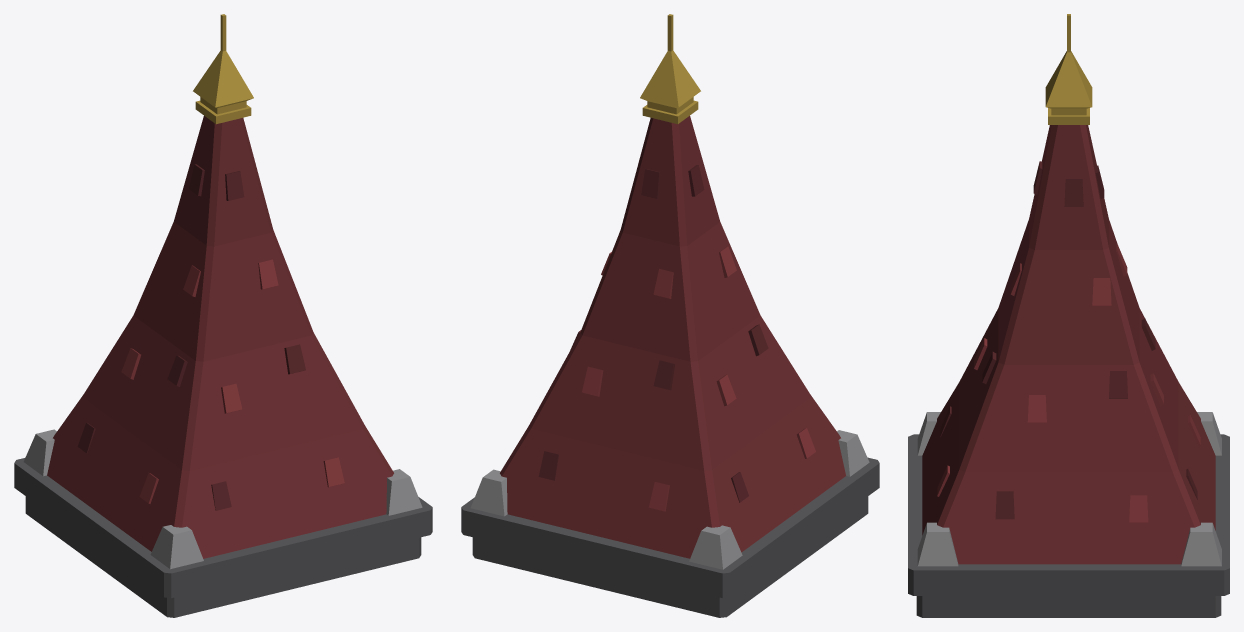
Rendered from SM_Bld_Castle_Roof_Spire_01.gltf.
3 views of the same model, side by side, from view 1: azimuth 30°, elevation 25°; view 2: azimuth 150°, elevation 25°; view 3: azimuth 270°, elevation 25° (orthographic). The views are drawn at different scales.
Parts seen in each view (by area): view 1: SM_Bld_Castle_Roof_Spire_01; view 2: SM_Bld_Castle_Roof_Spire_01; view 3: SM_Bld_Castle_Roof_Spire_01.
Boxes of the visible parts, <box> form: SM_Bld_Castle_Roof_Spire_01: <box>14,14,432,617</box>; SM_Bld_Castle_Roof_Spire_01: <box>461,14,879,617</box>; SM_Bld_Castle_Roof_Spire_01: <box>908,14,1229,617</box>.
Bounding box in the file's own units: 2.96 × 5.47 × 2.96.
Materials: 1 (1 with a texture image).
